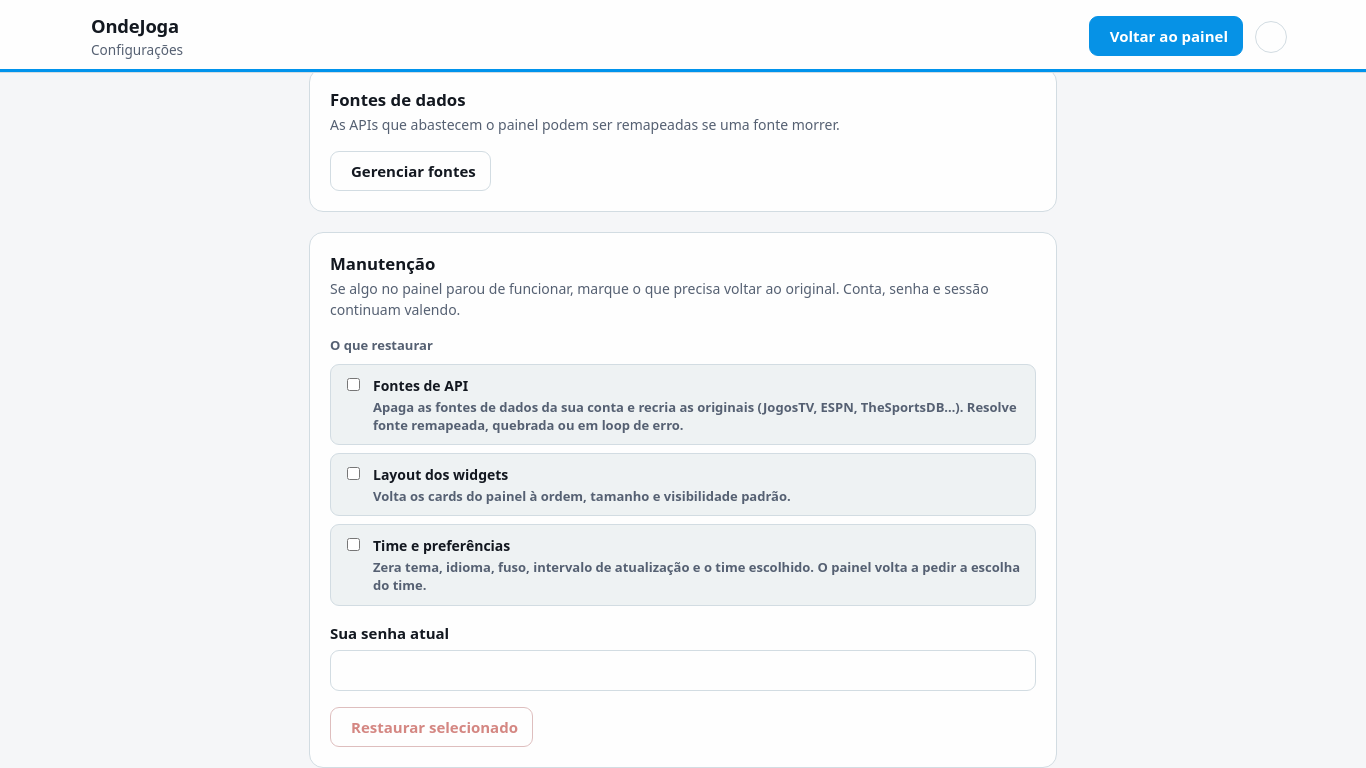
Test case: tela de Configurações › descarrega a seleção depois de restaurar
(page scrolled)
Click the checkbox labelled "Fontes de API" at coordinates (354, 384), box [347, 378, 360, 391]
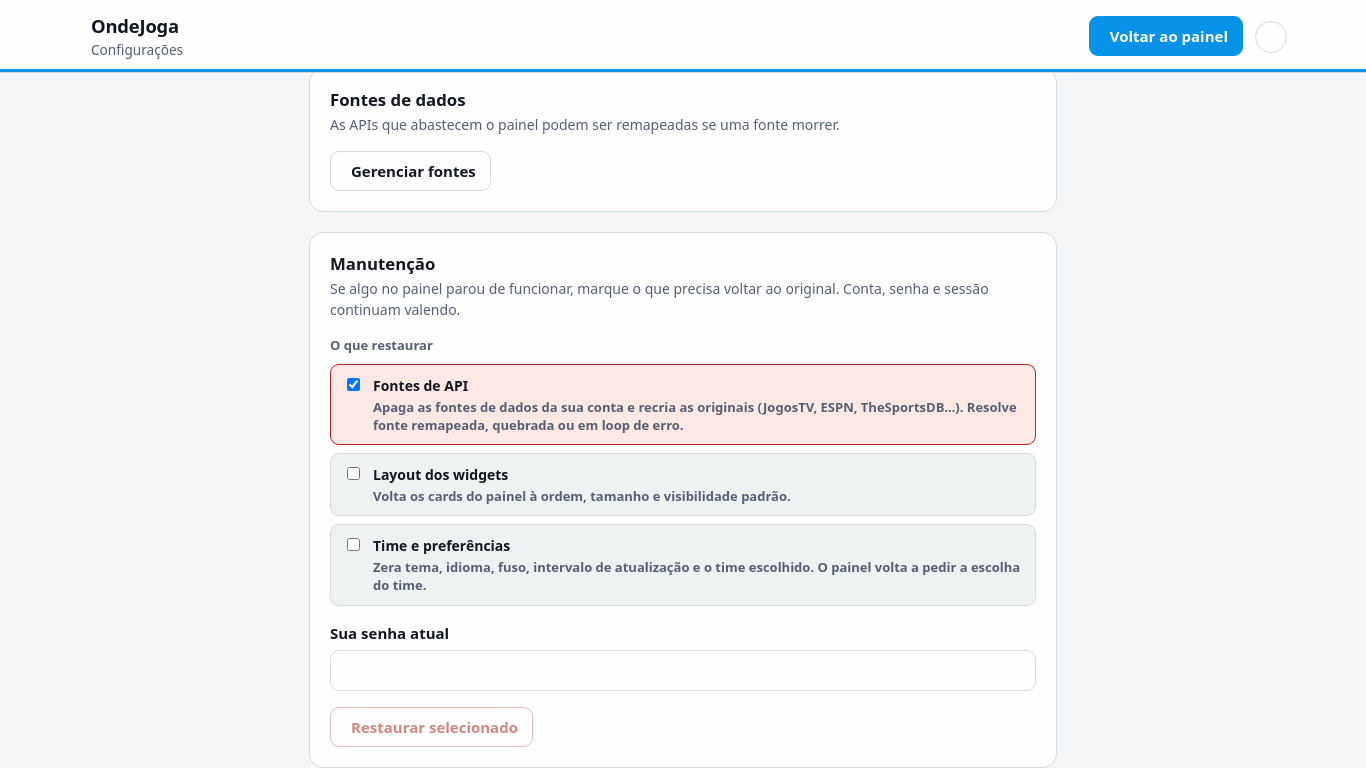
Type "segredo123" into the password field labelled "Sua senha atual" at coordinates (683, 670), box [330, 650, 1036, 690]
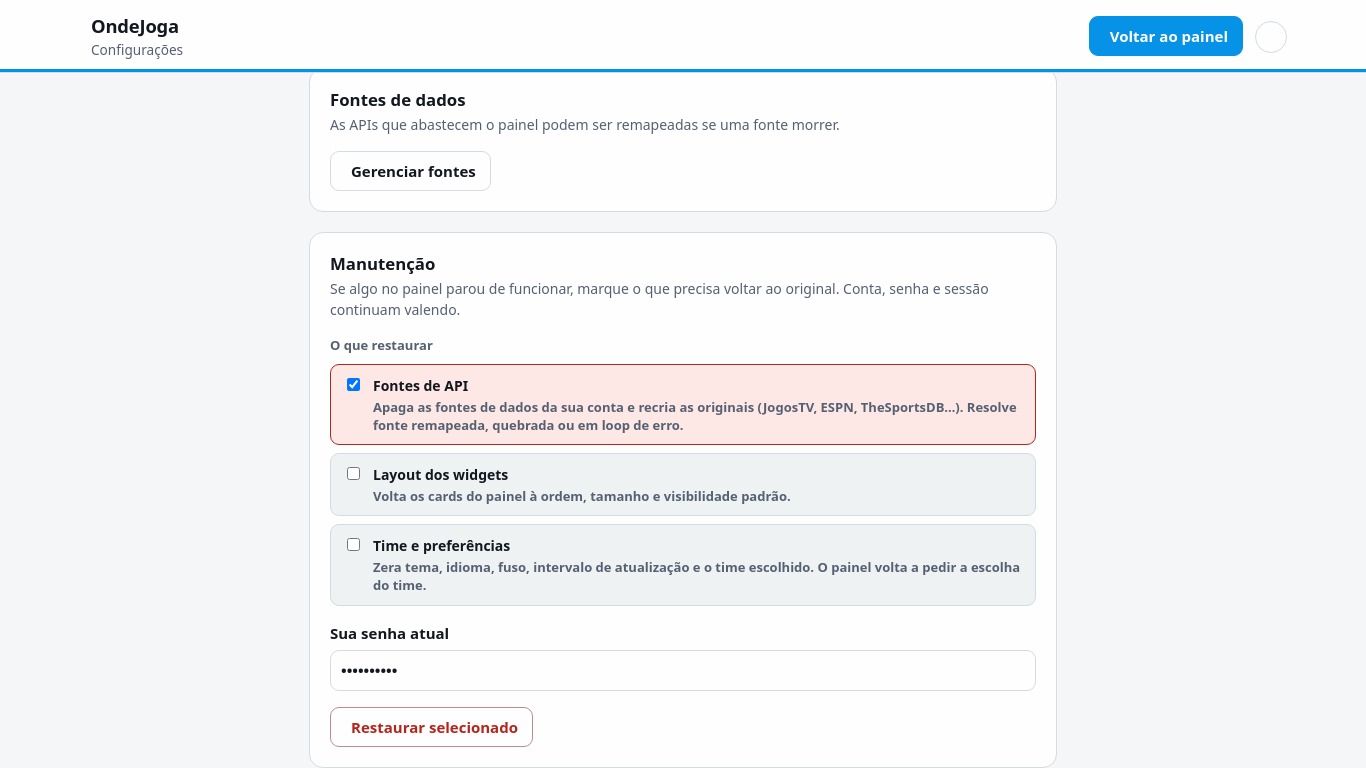
Click the button "Restaurar selecionado" at coordinates (432, 727), box [330, 706, 533, 747]
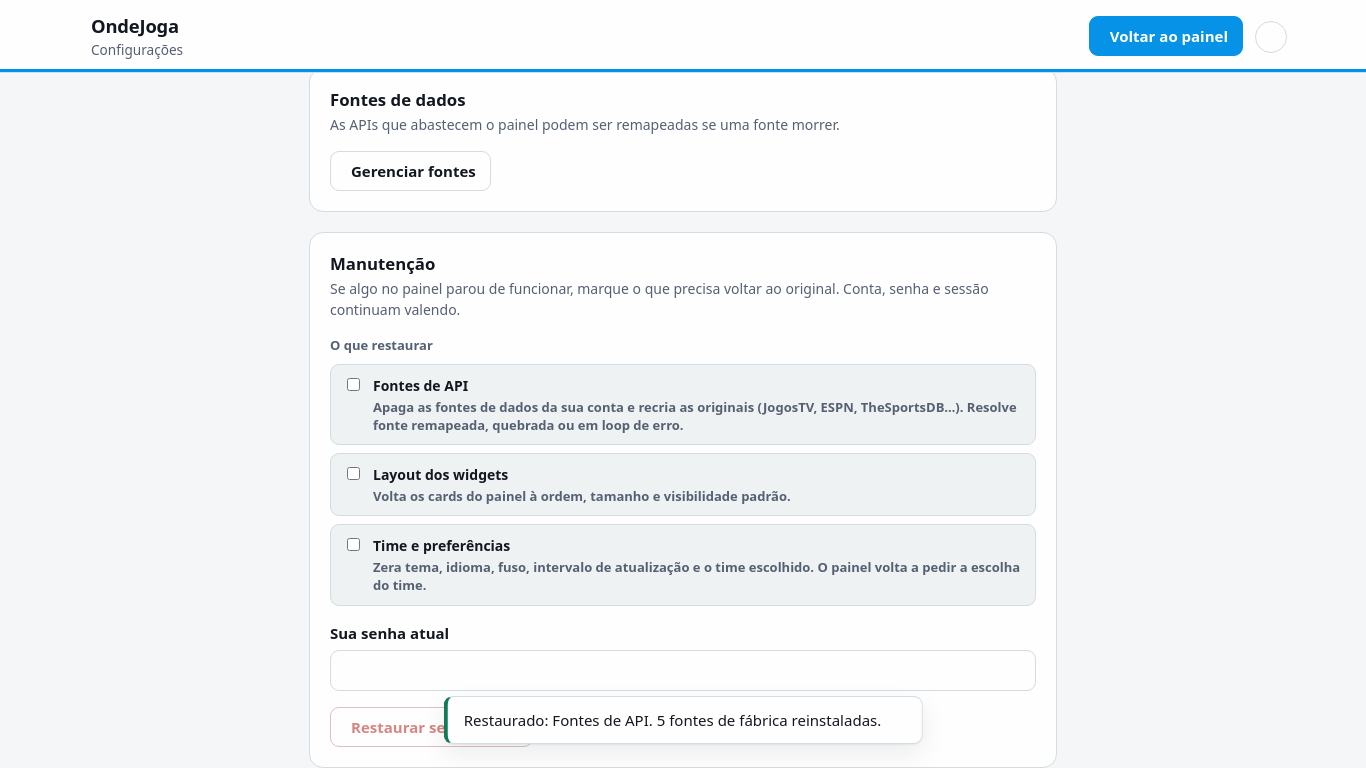
Check: the checkbox labelled "Fontes de API" is not checked, box [347, 378, 360, 391]
Check: the text "Restaurado: Fontes de API. 5 fontes de fábrica reinstaladas." is shown, box [464, 708, 881, 731]
Check: the button "Restaurar selecionado" is disabled, box [330, 706, 533, 747]
